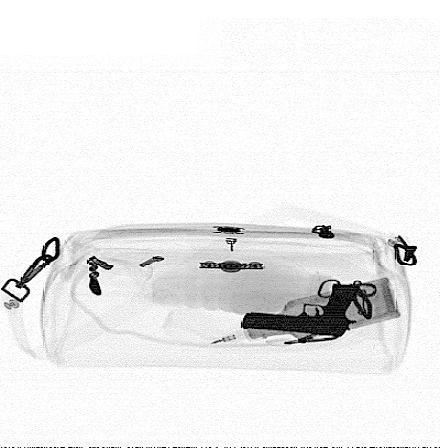Gun: (240, 283, 364, 338)
